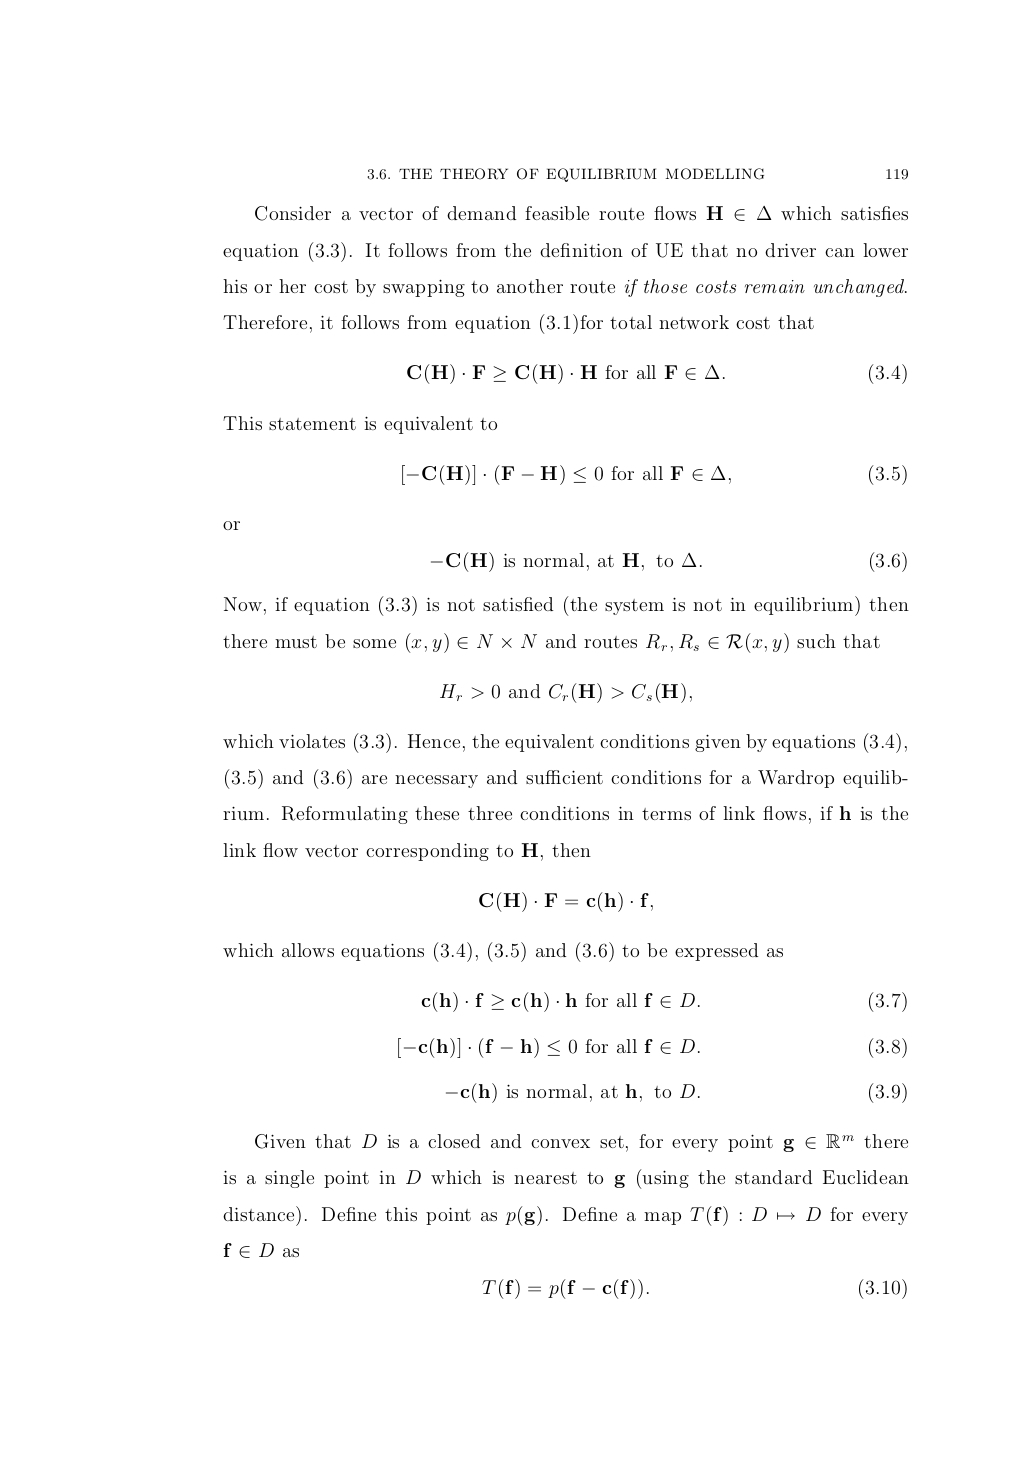formula: (398, 1037, 906, 1059), (402, 464, 906, 485), (407, 363, 906, 384), (421, 991, 906, 1012), (430, 551, 906, 572), (445, 1082, 906, 1103), (482, 1278, 906, 1299), (440, 682, 691, 703), (479, 891, 652, 912)
